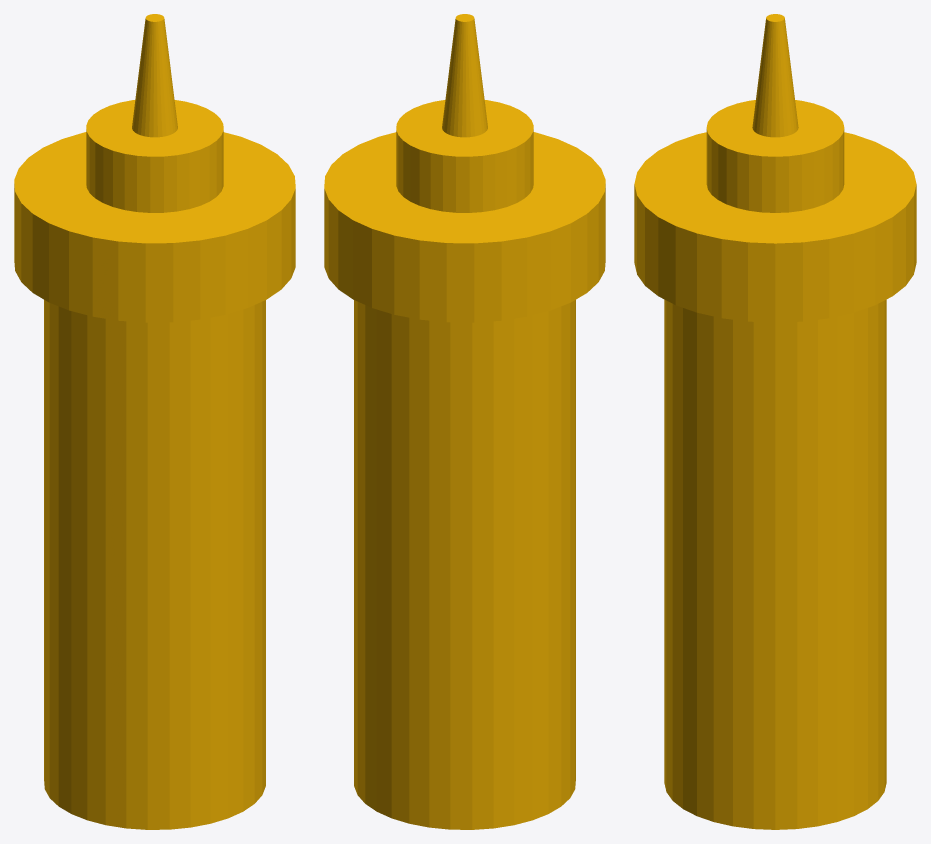
File: Saus1.fbx
The picture shows the model from 3 angles, left to right: view 1: azimuth 30°, elevation 25°; view 2: azimuth 150°, elevation 25°; view 3: azimuth 270°, elevation 25°; orthographic projection.
Visible parts, largest first — view 1: Saus.001; view 2: Saus.001; view 3: Saus.001.
Part boxes in pixels (x1=…): Saus.001: x1=14, y1=14, x2=295, y2=829; Saus.001: x1=324, y1=14, x2=605, y2=829; Saus.001: x1=634, y1=14, x2=916, y2=829.
Bounding box in the file's own units: 108 × 325 × 108.
